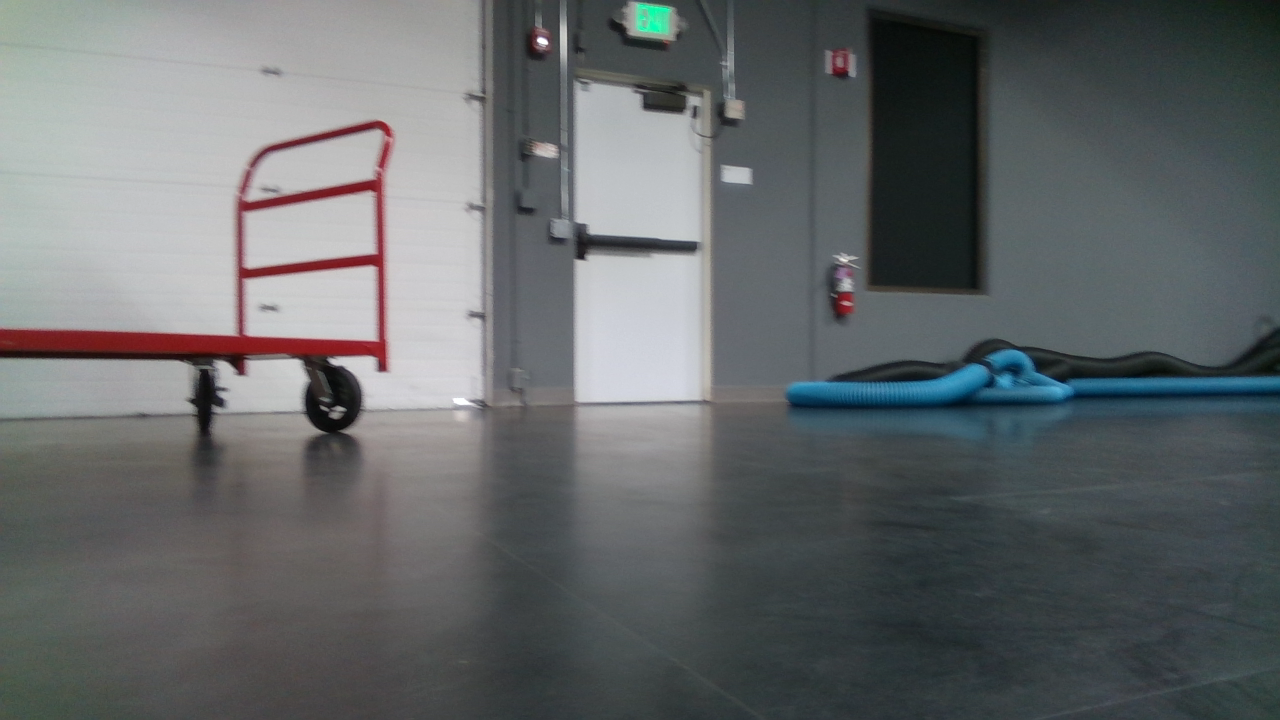Dolly: (0, 106, 403, 470)
Wheel: (300, 363, 366, 435), (187, 368, 227, 434)
